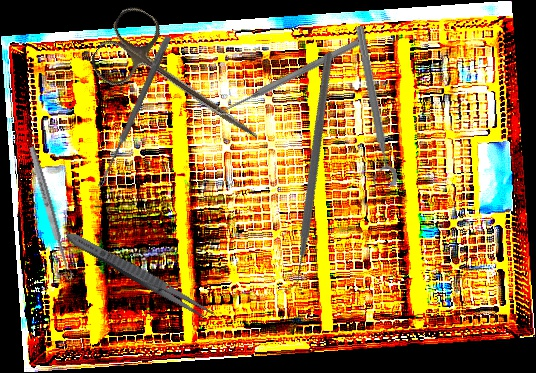Chopper: (198, 51, 413, 295)
Dressing Forceps: (62, 227, 219, 325)
Fixation Ring: (342, 24, 399, 190)
Iris Scissors: (84, 0, 282, 168)
Pusher: (218, 37, 361, 117)
Surgical Spoon: (96, 34, 172, 190), (27, 145, 74, 281)
